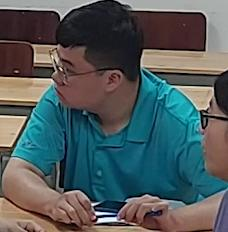Turning_Around: (8, 2, 228, 232)
